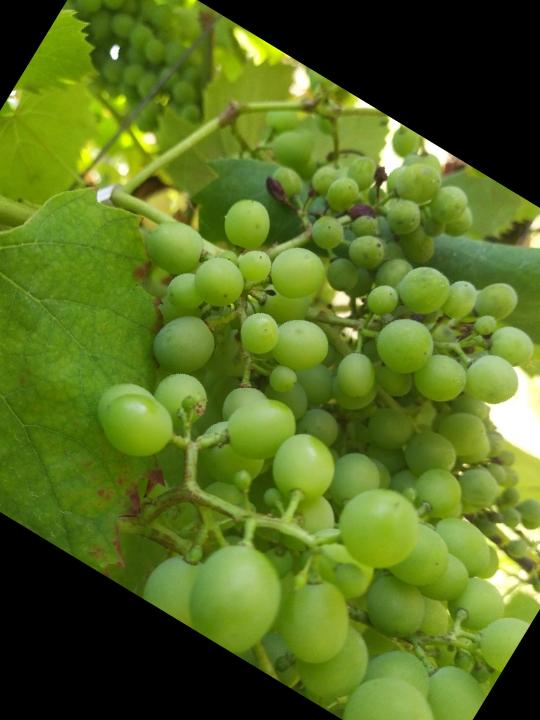grape: (27, 298, 540, 720), (133, 52, 540, 468)
